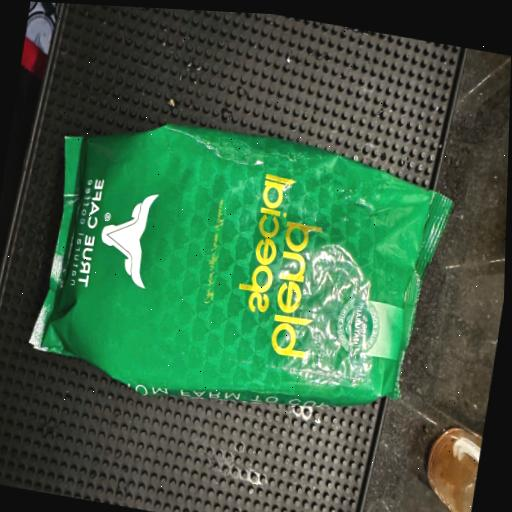cafe_xay: (32, 125, 451, 405)
